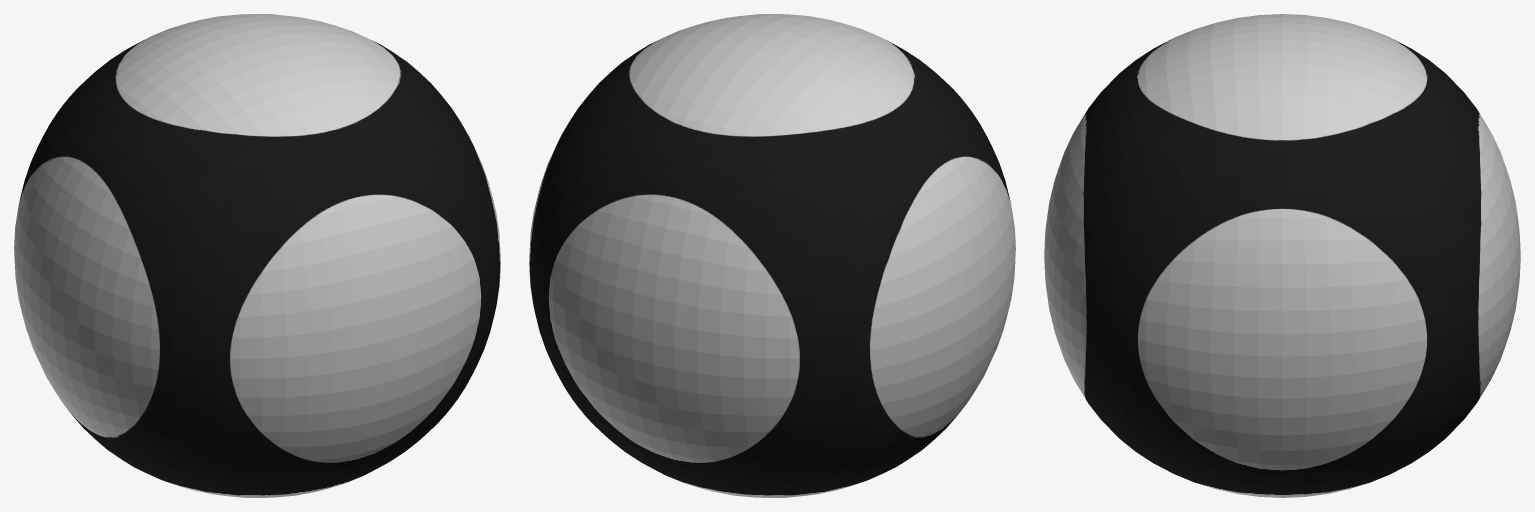
Rendered from Ball.glb.
The picture shows the model from 3 angles, left to right: view 1: azimuth 30°, elevation 25°; view 2: azimuth 150°, elevation 25°; view 3: azimuth 270°, elevation 25°; orthographic projection.
Parts seen in each view (by area): view 1: Ball; view 2: Ball; view 3: Ball.
Part boxes in pixels (bbox=[...]): Ball: bbox=[14, 14, 500, 497]; Ball: bbox=[529, 14, 1015, 497]; Ball: bbox=[1044, 14, 1520, 497].
Size of the model in its own units: 0.8395 by 0.8395 by 0.8395.
Materials: 1 (1 with a texture image).
